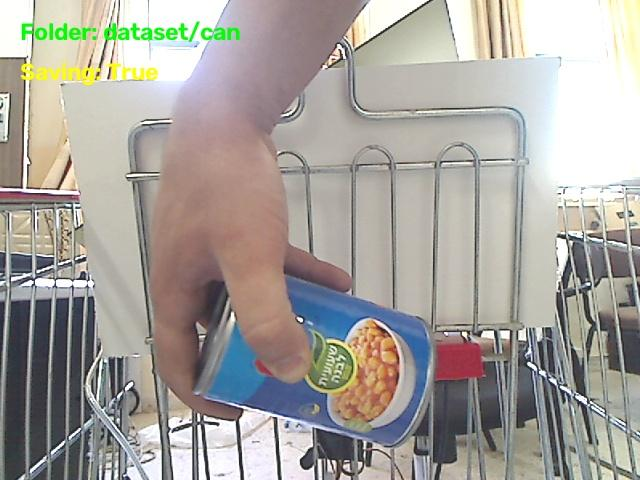can: (195, 277, 434, 446)
